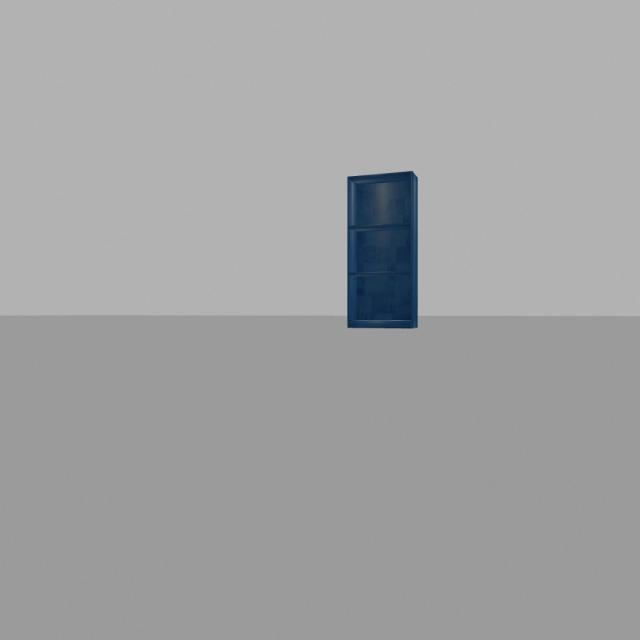shelf: (335, 161, 426, 337)
